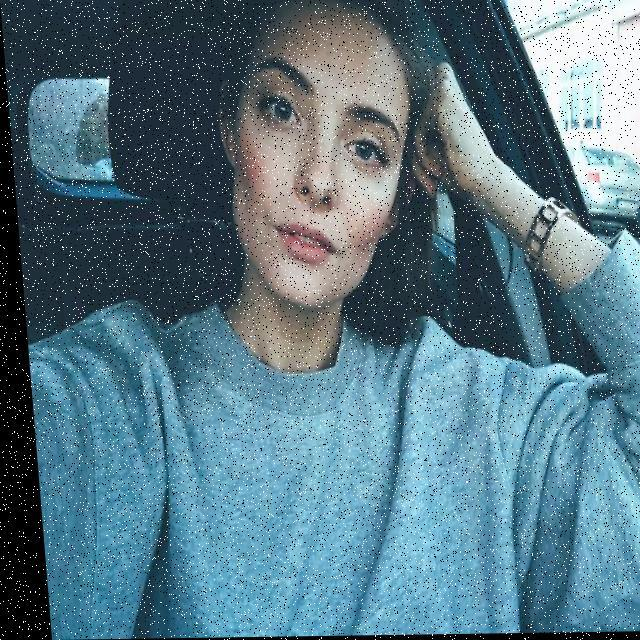noSeatbelt: (16, 244, 587, 640)
